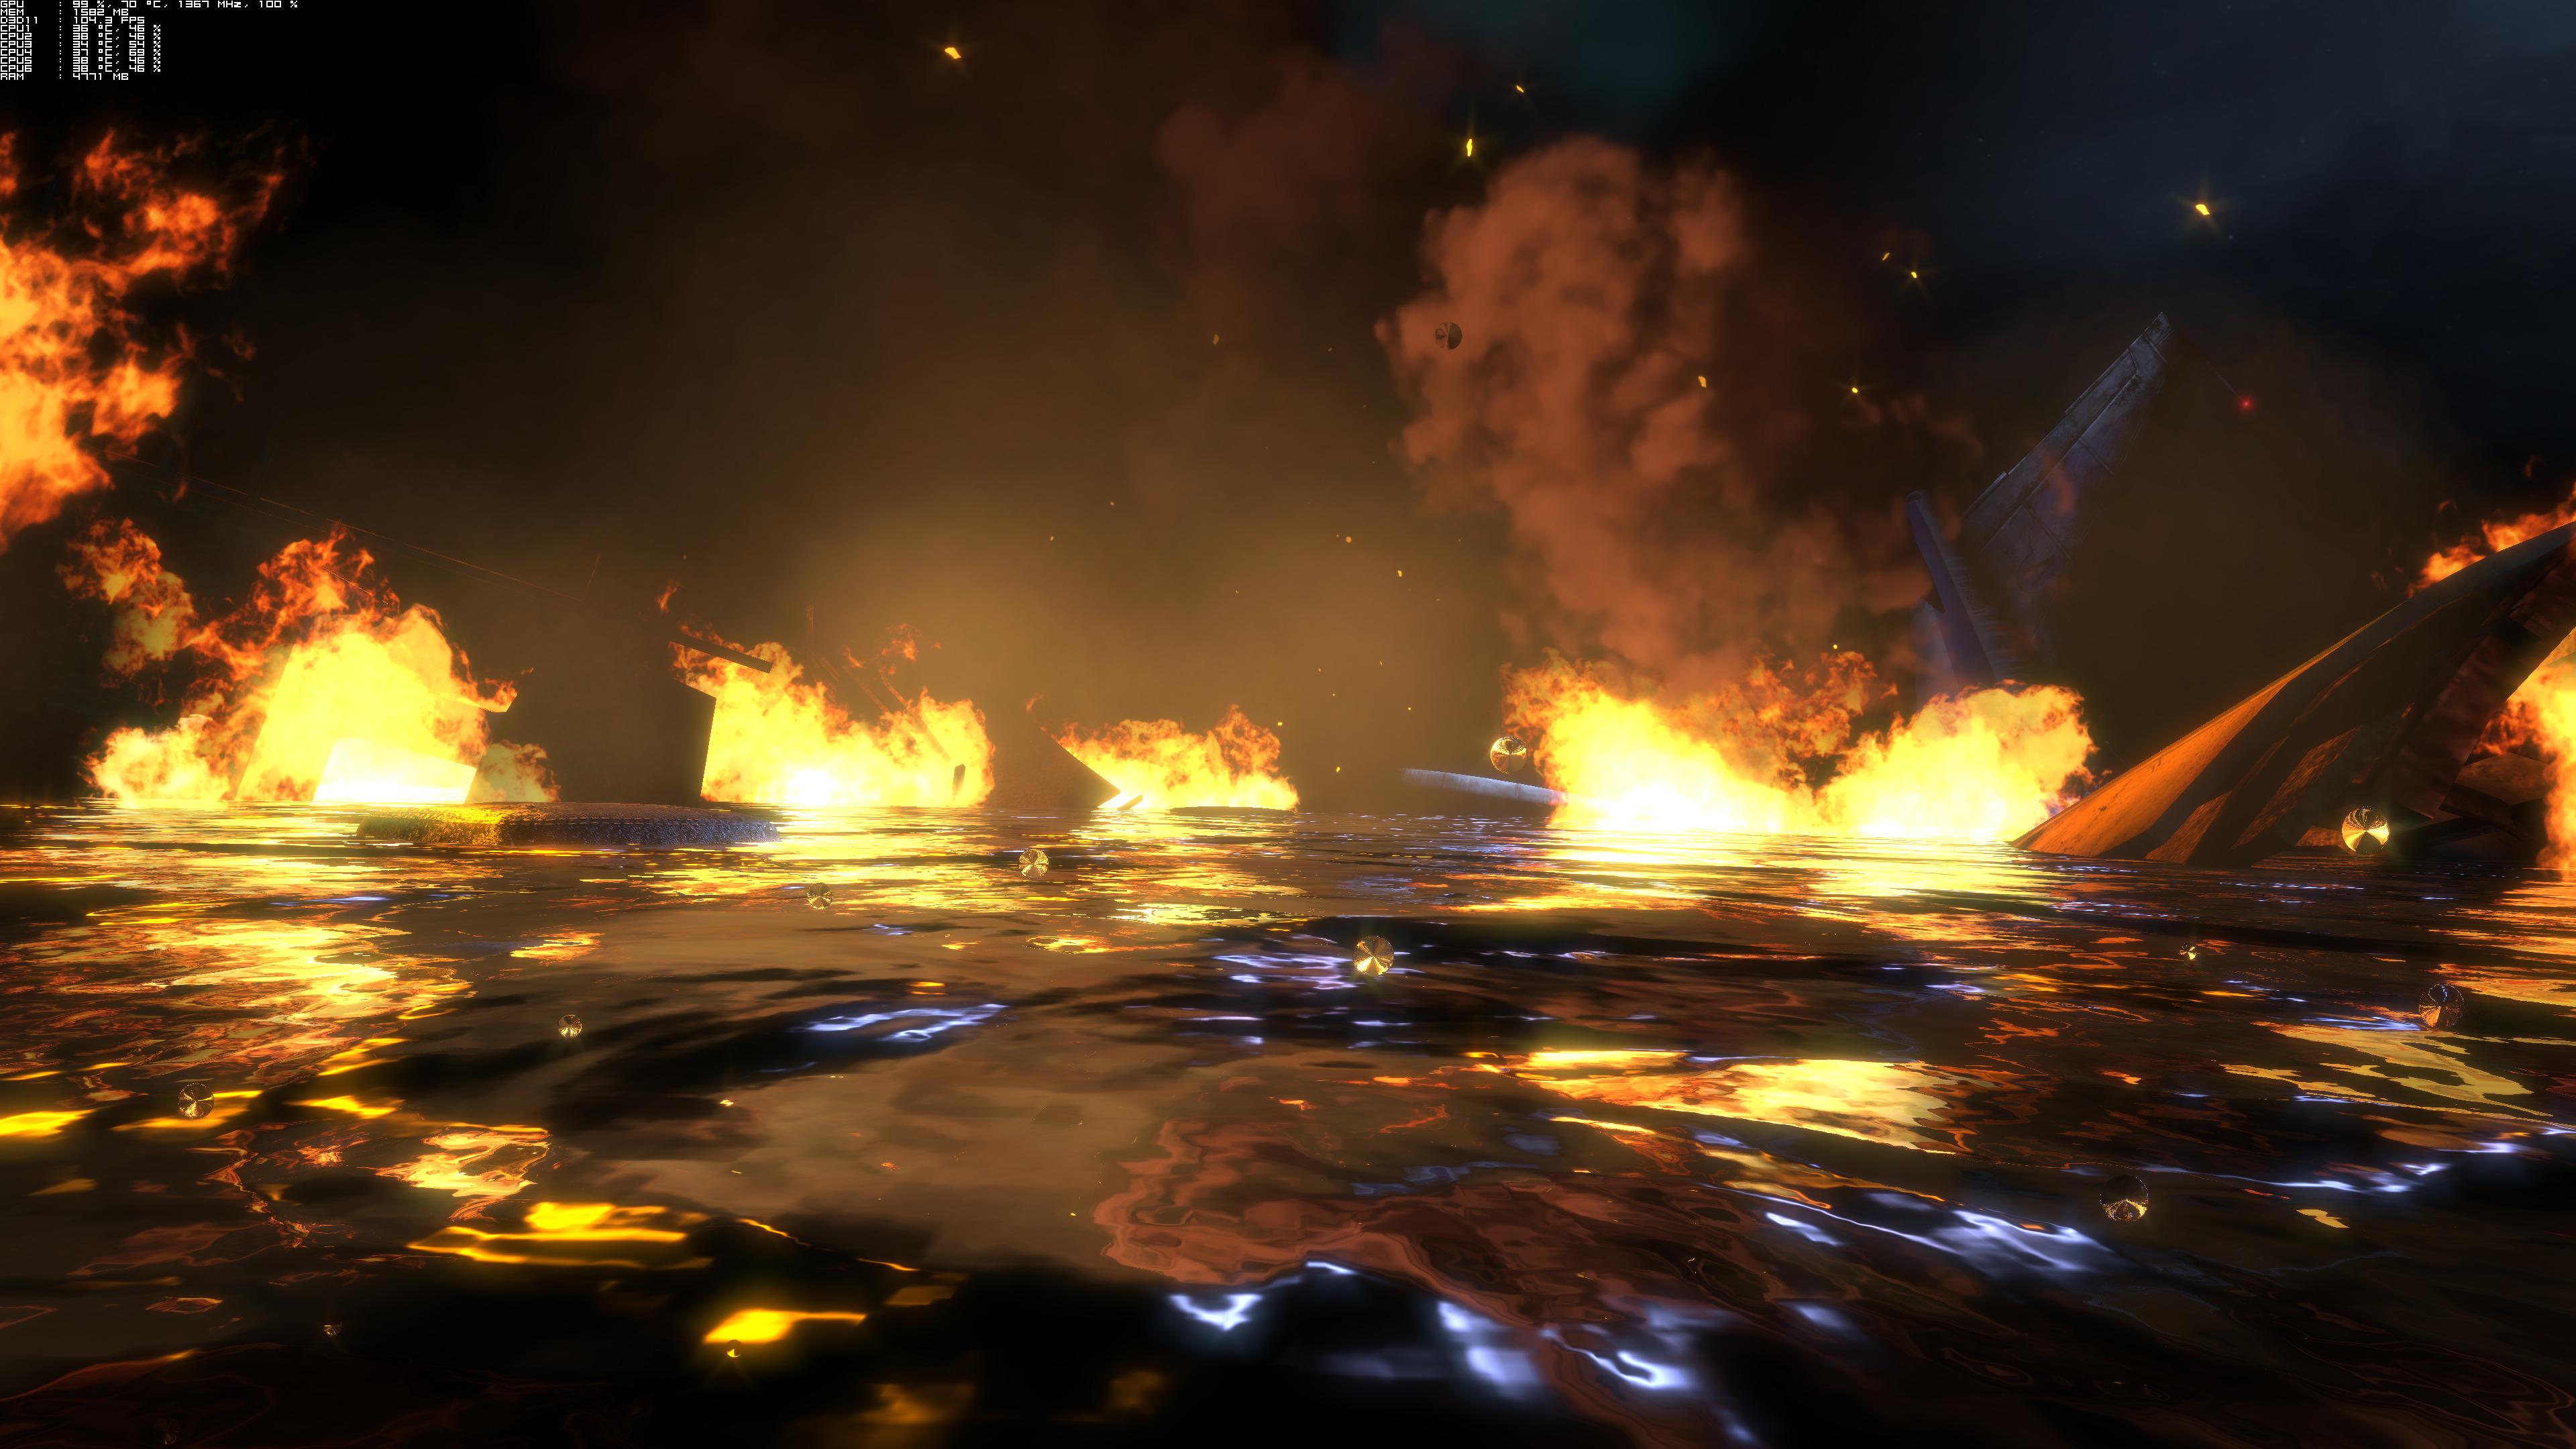fire: (0, 225, 499, 824), (1509, 625, 2143, 888), (656, 594, 1021, 840), (1077, 706, 1338, 844)
